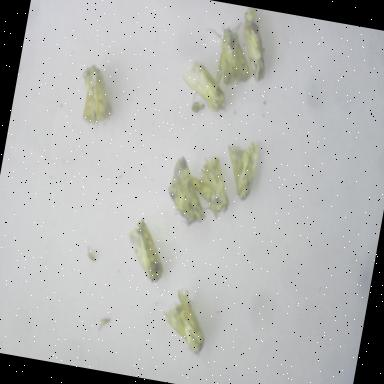abw: (194, 16, 264, 94), (158, 150, 218, 232), (156, 284, 217, 360), (116, 211, 174, 290), (182, 150, 240, 220), (177, 52, 239, 116), (70, 59, 122, 135), (214, 132, 264, 206), (232, 15, 278, 88)
